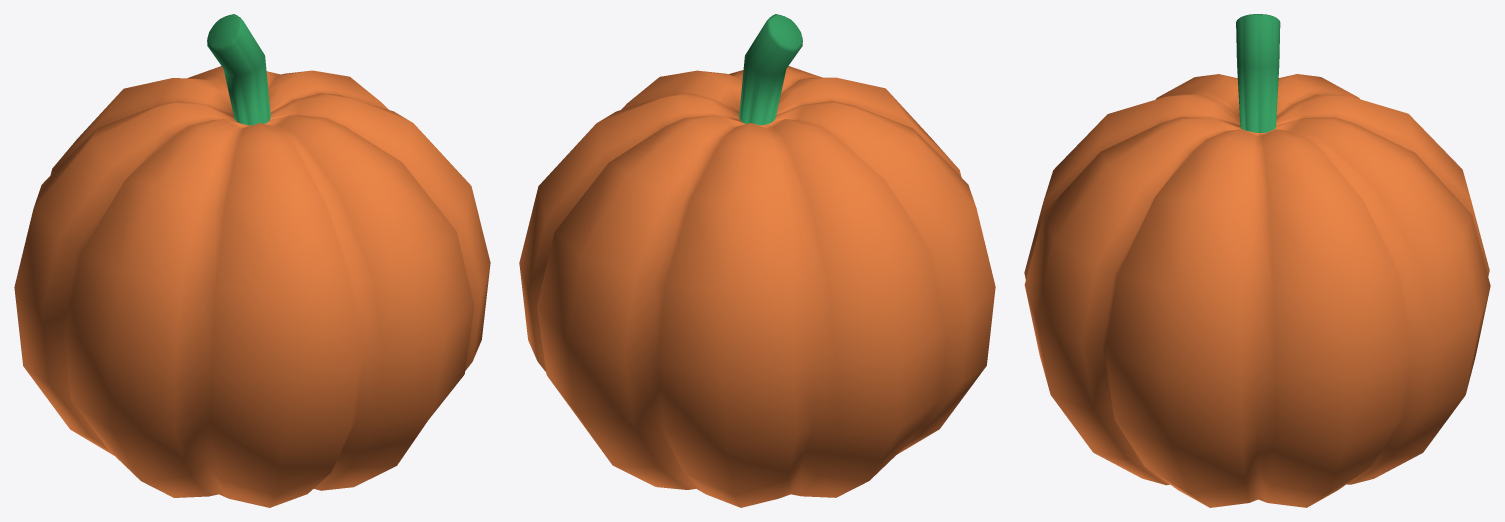
File: Pumpkin.fbx
3 views of the same model, side by side, from view 1: azimuth 30°, elevation 25°; view 2: azimuth 150°, elevation 25°; view 3: azimuth 270°, elevation 25° (orthographic).
Visible parts, largest first — view 1: Sphere.001; view 2: Sphere.001; view 3: Sphere.001.
Boxes of the visible parts, <box> form: Sphere.001: <box>14,14,490,507</box>; Sphere.001: <box>519,14,995,507</box>; Sphere.001: <box>1024,14,1490,507</box>.
Bounding box in the file's own units: 63.1 × 67.04 × 64.61.
1 material, 1 textured.
